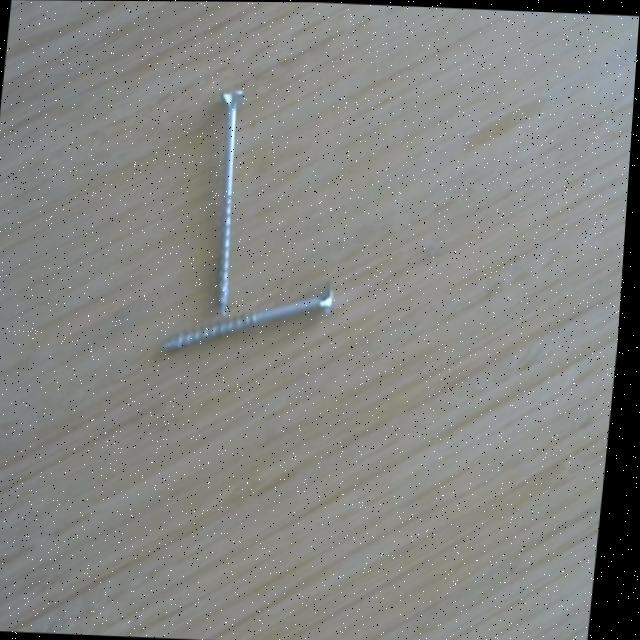Long screw: (163, 271, 344, 371), (197, 81, 261, 317)
